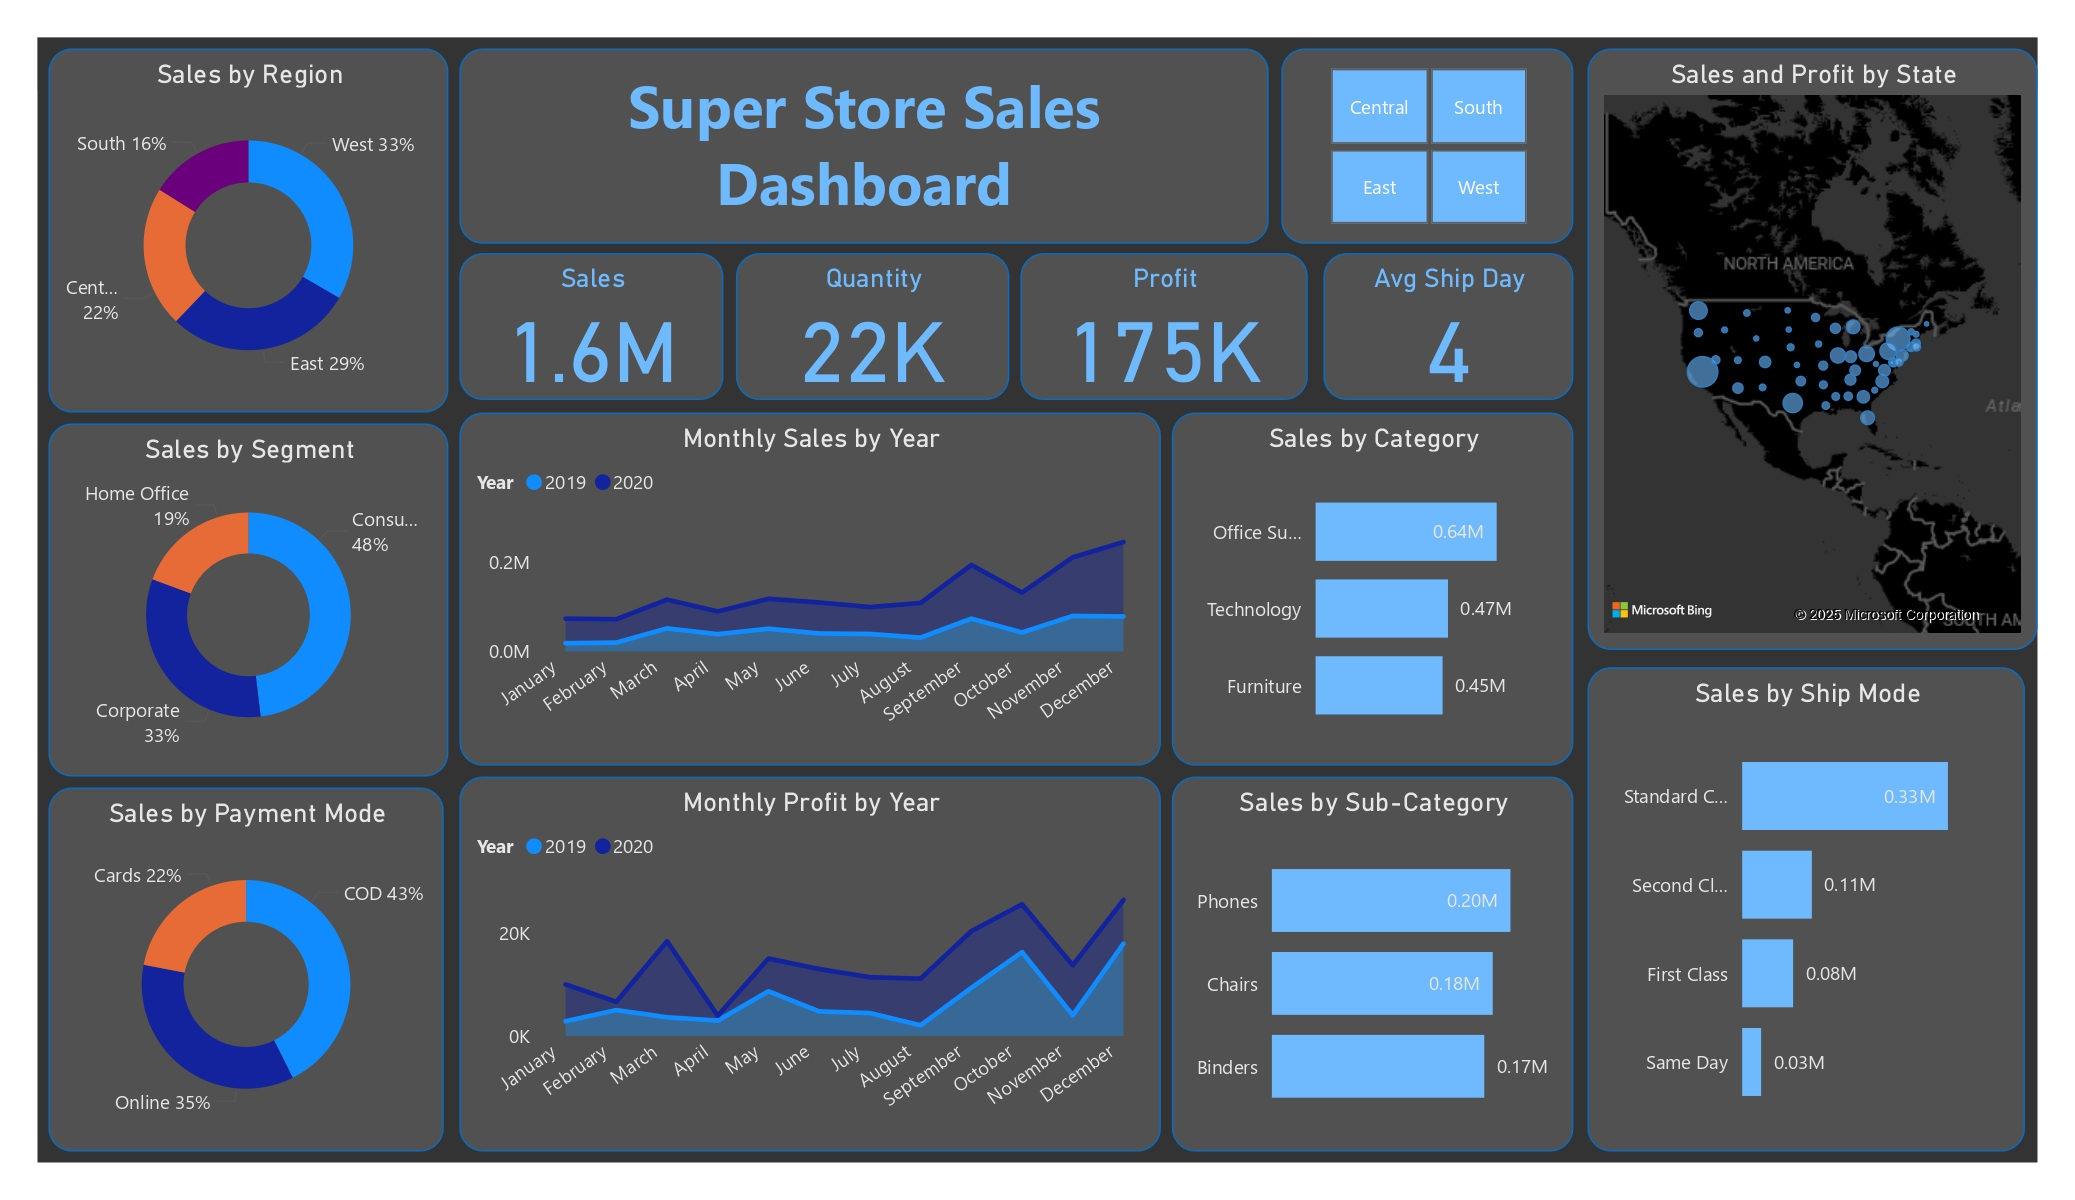

This screenshot's page, from the dashboard's own definition file:
{"tool":"powerbi","page":{"name":"Dashboard","canvas":[1280,720],"ordinal":0},"visuals":[{"type":"clusteredBarChart","title":"Sales by Category","fields":{"Category":["SuperStore_Sales_Dataset.Category"],"Y":["Sum(SuperStore_Sales_Dataset.Sales)"]},"box":[725.9,239.5,257.1,226.3],"z":0},{"type":"stackedAreaChart","title":"Monthly Sales by Year","fields":{"Y":["Sum(SuperStore_Sales_Dataset.Sales)"],"Category":["SuperStore_Sales_Dataset.Order Date.Variation.Date Hierarchy.Month","SuperStore_Sales_Dataset.Order Date.Variation.Date Hierarchy.Day"],"Series":["SuperStore_Sales_Dataset.Order Date.Variation.Date Hierarchy.Year"]},"box":[270.4,239.5,448.2,226.3],"z":1000},{"type":"clusteredBarChart","title":"Sales by Sub-Category","fields":{"Category":["SuperStore_Sales_Dataset.Sub-Category"],"Y":["Sum(SuperStore_Sales_Dataset.Sales)"]},"box":[725.9,473.1,257.1,239.5],"z":2000},{"type":"clusteredBarChart","title":"Sales by Ship Mode","fields":{"Category":["SuperStore_Sales_Dataset.Ship Mode"],"Y":["Sum(SuperStore_Sales_Dataset.Sales)"]},"box":[991.8,402.6,280.7,310],"z":3000},{"type":"stackedAreaChart","title":"Monthly Profit by Year","fields":{"Category":["SuperStore_Sales_Dataset.Order Date.Variation.Date Hierarchy.Month","SuperStore_Sales_Dataset.Order Date.Variation.Date Hierarchy.Day"],"Series":["SuperStore_Sales_Dataset.Order Date.Variation.Date Hierarchy.Year"],"Y":["Sum(SuperStore_Sales_Dataset.Profit)"]},"box":[270.4,473.1,448.2,239.5],"z":4000},{"type":"map","title":"Sales and Profit by State","fields":{"Category":["SuperStore_Sales_Dataset.State"],"Size":["Sum(SuperStore_Sales_Dataset.Sales)"]},"box":[991.8,7.3,288,385],"z":5000},{"type":"donutChart","title":"Sales by Segment","fields":{"Category":["SuperStore_Sales_Dataset.Segment"],"Y":["Sum(SuperStore_Sales_Dataset.Sales)"]},"box":[7.3,246.9,255.7,226.3],"z":6000},{"type":"donutChart","title":"Sales by Payment Mode","fields":{"Category":["SuperStore_Sales_Dataset.Payment Mode"],"Y":["Sum(SuperStore_Sales_Dataset.Sales)"]},"box":[7.3,480.5,252.7,232.2],"z":7000},{"type":"slicer","fields":{"Values":["SuperStore_Sales_Dataset.Region"]},"box":[796.4,7.3,186.6,124.9],"z":8000},{"type":"textbox","box":[270.4,7.3,517.2,124.9],"z":9000},{"type":"card","title":"Sales","fields":{"Values":["Sum(SuperStore_Sales_Dataset.Sales)"]},"box":[270.4,138.1,169,94],"z":10000},{"type":"card","title":"Quantity","fields":{"Values":["Sum(SuperStore_Sales_Dataset.Quantity)"]},"box":[446.7,138.1,174.9,94],"z":11000},{"type":"card","title":"Profit","fields":{"Values":["Sum(SuperStore_Sales_Dataset.Profit)"]},"box":[628.9,138.1,183.7,94],"z":12000},{"type":"card","title":"Avg Ship Day","fields":{"Values":["Avg(SuperStore_Sales_Dataset.AvgDelivery)"]},"box":[822.9,138.1,160.2,94],"z":13000},{"type":"donutChart","title":"Sales by Region","fields":{"Category":["SuperStore_Sales_Dataset.Region"],"Y":["Sum(SuperStore_Sales_Dataset.Sales)"]},"box":[7.3,7.3,255.7,232.2],"z":14000}]}

Visuals, with their boxes in screenshot pixels (x1, y1, x2, y2):
"Sales by Category" clusteredBarChart: [1172, 412, 1573, 765]
"Monthly Sales by Year" stackedAreaChart: [460, 412, 1160, 765]
"Sales by Sub-Category" clusteredBarChart: [1172, 777, 1573, 1151]
"Sales by Ship Mode" clusteredBarChart: [1587, 667, 2026, 1151]
"Monthly Profit by Year" stackedAreaChart: [460, 777, 1160, 1151]
"Sales and Profit by State" map: [1587, 49, 2037, 650]
"Sales by Segment" donutChart: [49, 423, 448, 777]
"Sales by Payment Mode" donutChart: [49, 788, 444, 1151]
slicer - SuperStore_Sales_Dataset.Region: [1282, 49, 1573, 244]
textbox: [460, 49, 1268, 244]
"Sales" card: [460, 253, 724, 400]
"Quantity" card: [735, 253, 1009, 400]
"Profit" card: [1020, 253, 1307, 400]
"Avg Ship Day" card: [1323, 253, 1574, 400]
"Sales by Region" donutChart: [49, 49, 448, 412]
